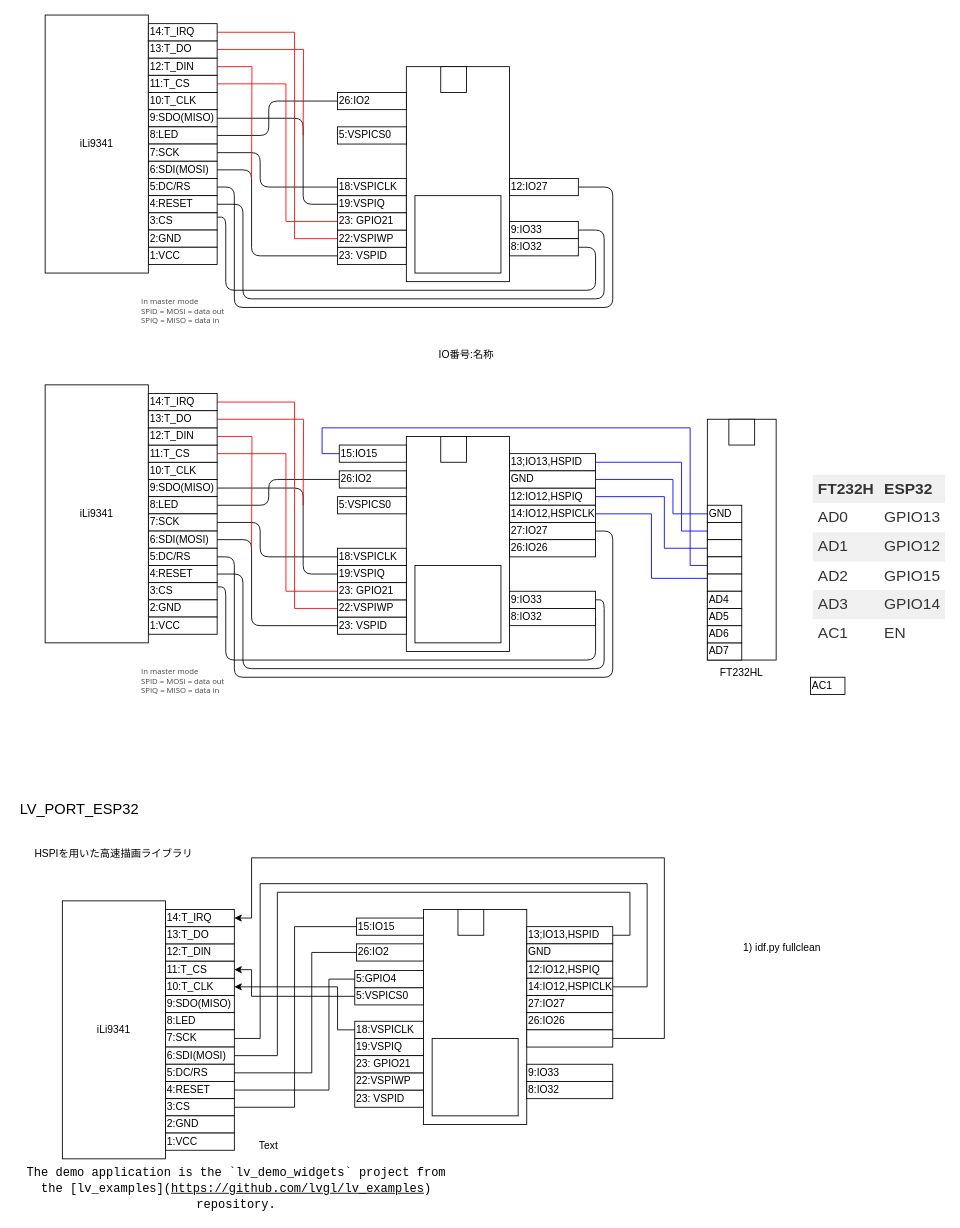
Image size: 960x1228. Some labels were removed from this diagram. The box of each missing label's shape, as (x1, y1, x2, y2) in pixels:
25:IO25: (526, 1029, 613, 1047)
AD0: (706, 522, 742, 540)
AD1: (706, 539, 742, 557)
AD2: (706, 556, 742, 574)
AD3: (706, 573, 742, 591)
